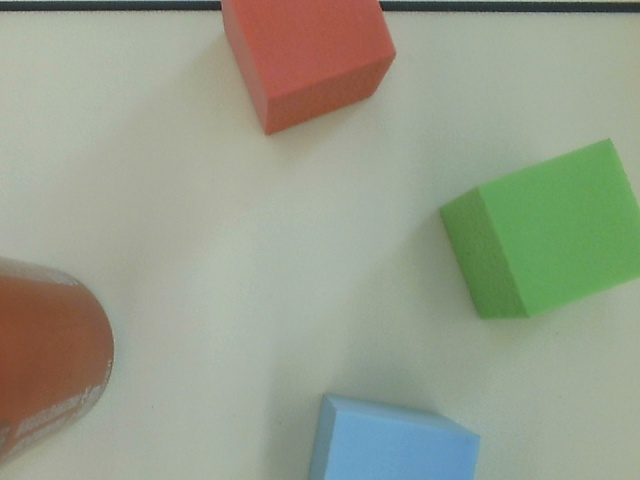bluecube: (304, 390, 488, 480)
cola: (1, 254, 125, 468)
greencube: (433, 134, 640, 325)
redcube: (214, 1, 401, 143)
